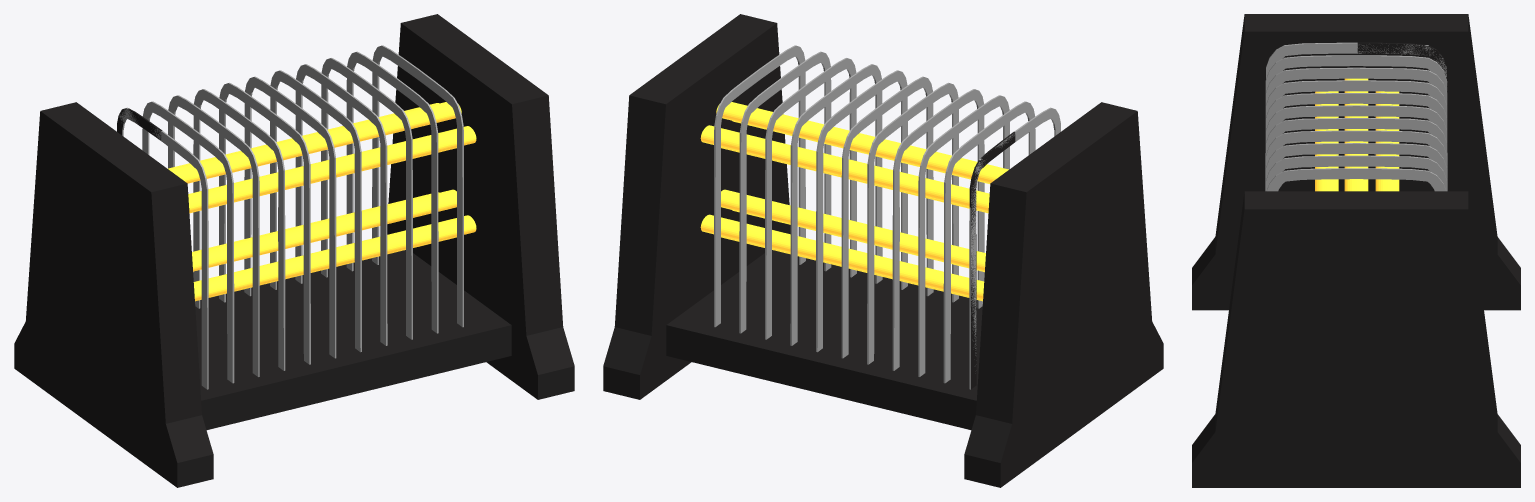
The model's file is finalheater.fbx.
The picture shows the model from 3 angles, left to right: view 1: azimuth 30°, elevation 25°; view 2: azimuth 150°, elevation 25°; view 3: azimuth 270°, elevation 25°; orthographic projection.
Visible parts, largest first — view 1: Cube1; view 2: Cube1; view 3: Cube1.
Part boxes in pixels (x1,y1,x2,y2): Cube1: [14, 14, 574, 487]; Cube1: [603, 14, 1163, 487]; Cube1: [1192, 14, 1520, 487].
Bounding box in the file's own units: 1210 × 817 × 861.
3 materials, 3 textured.
